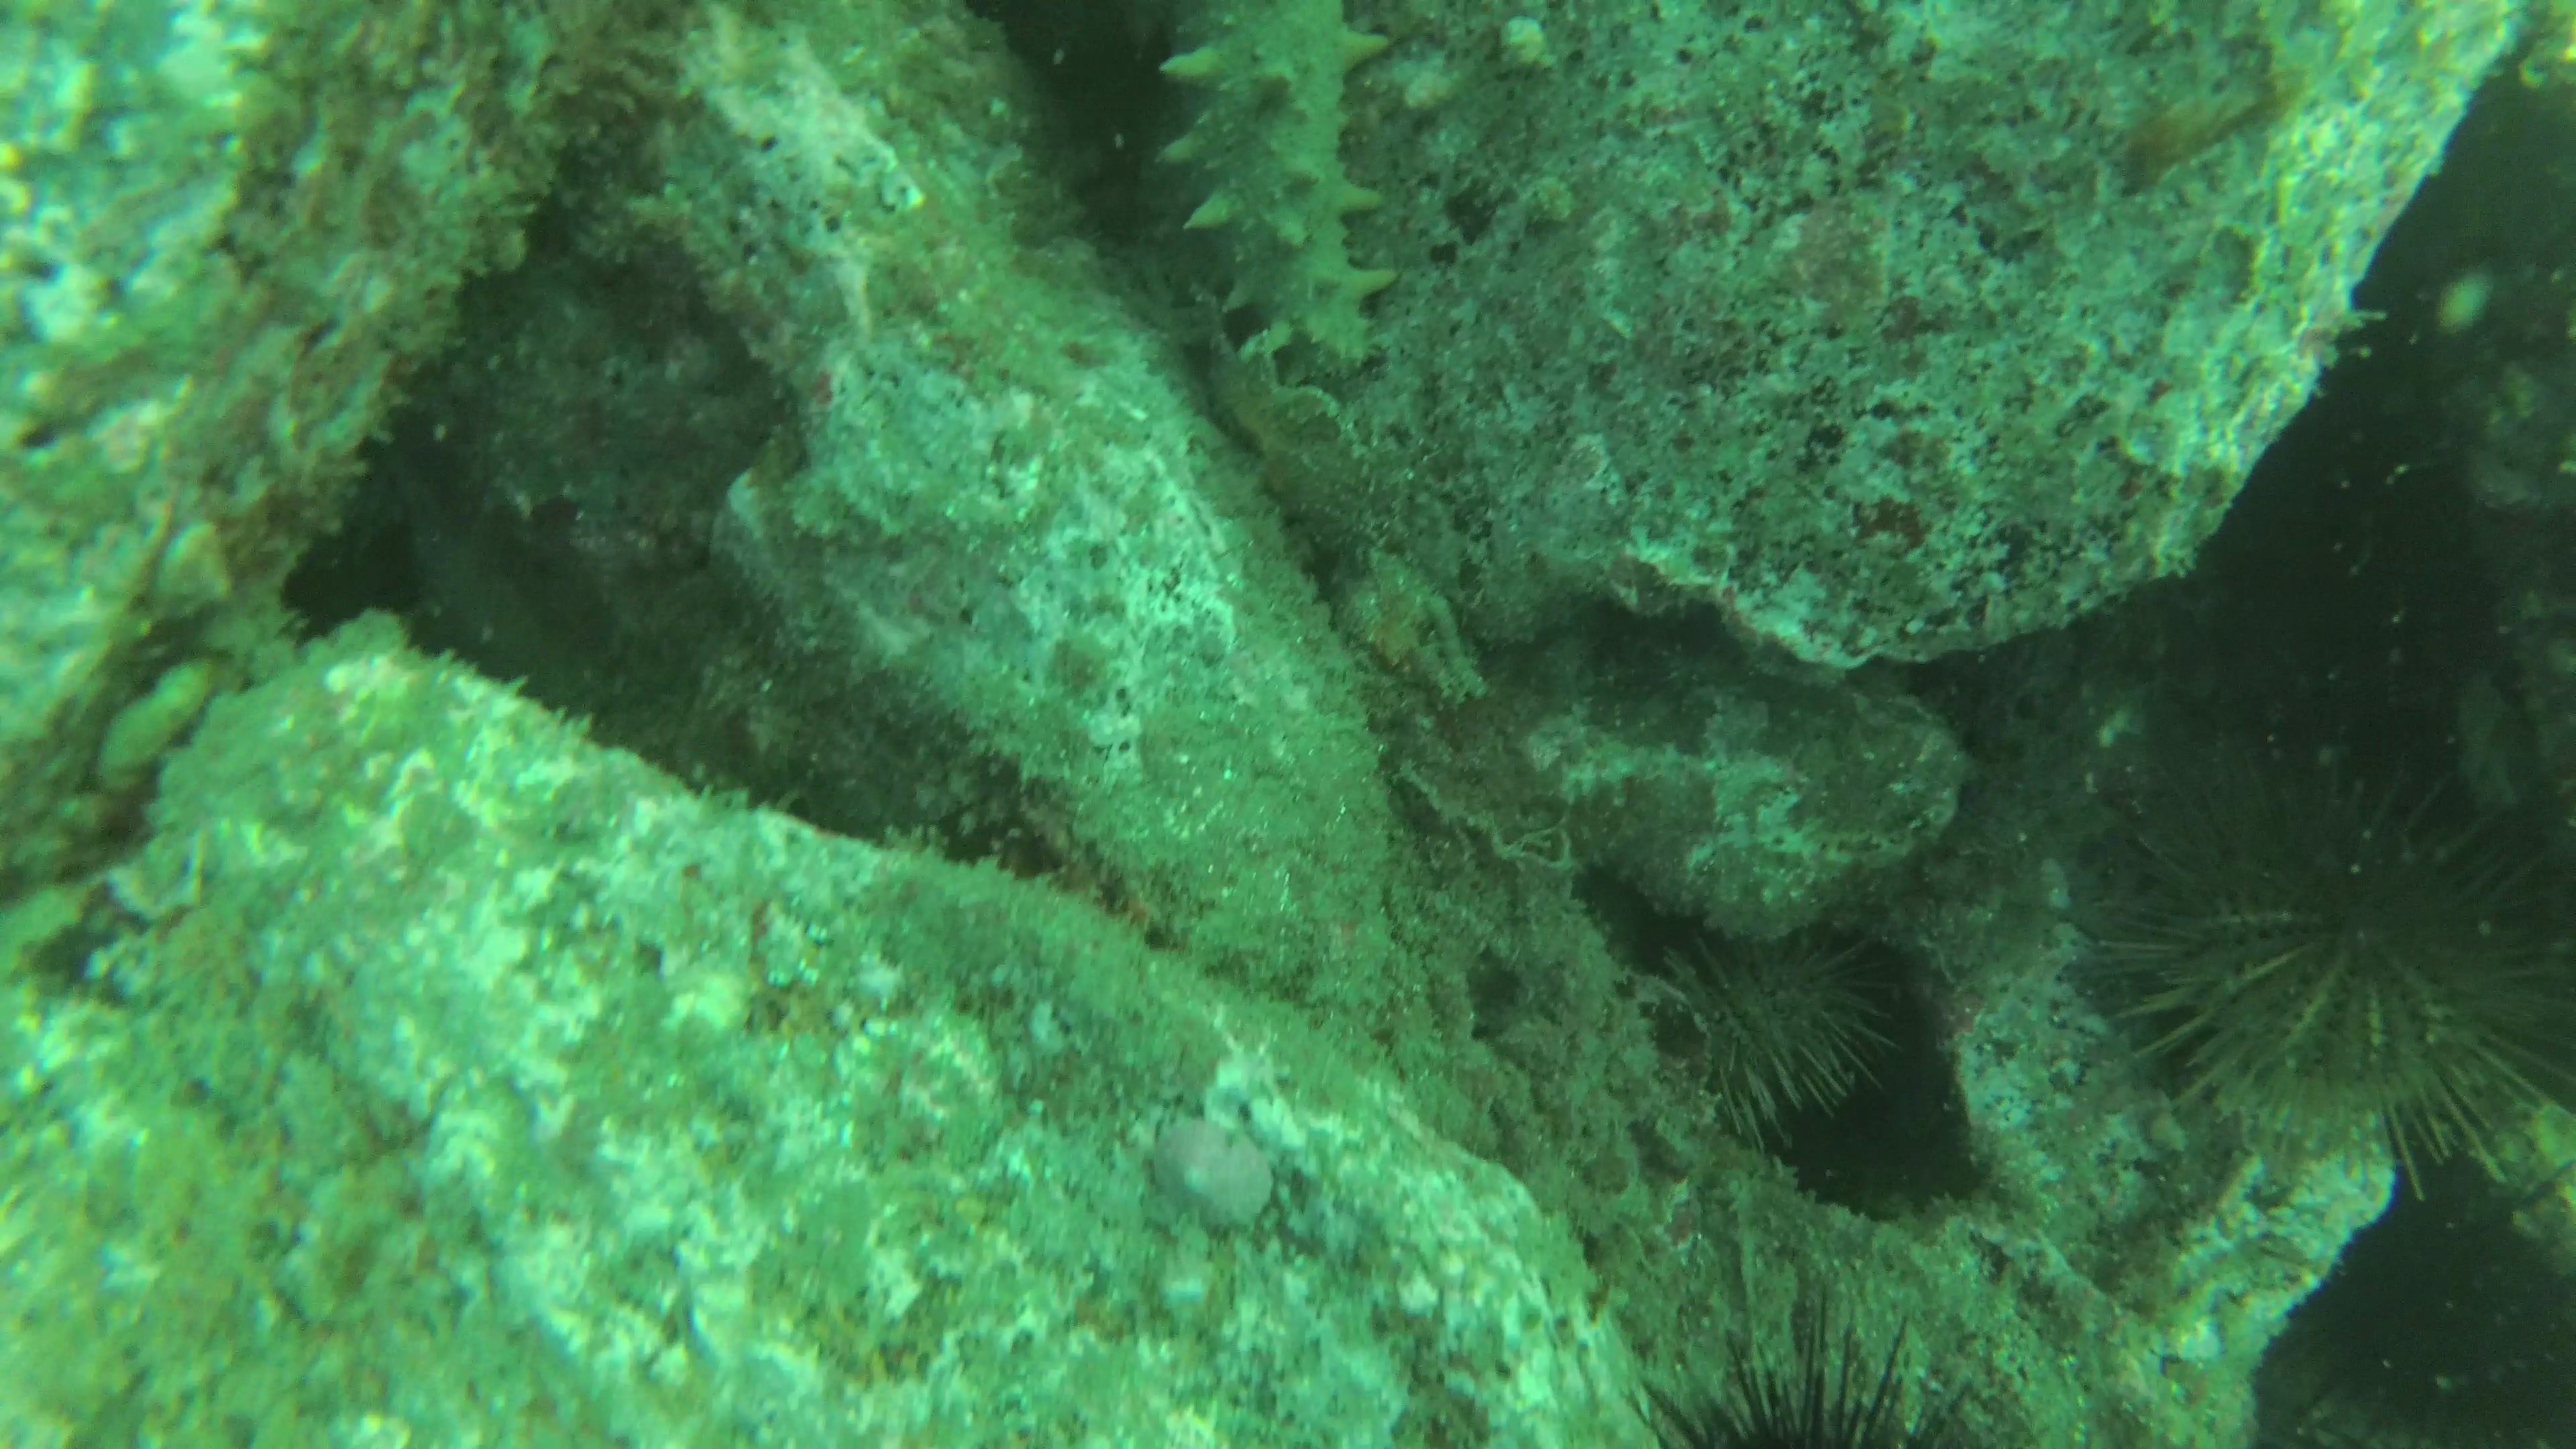echinus: (2111, 734, 2576, 1200), (2250, 1208, 2576, 1449), (1633, 915, 1920, 1154), (1629, 1297, 2006, 1449)
holothurian: (1143, 0, 1396, 395)
